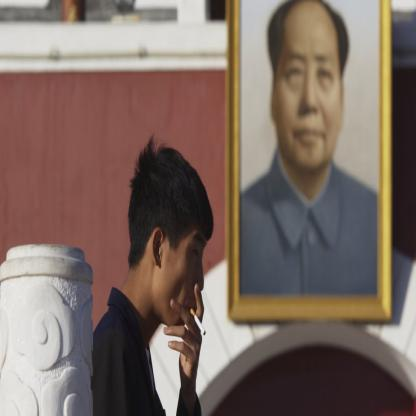cigarette: (190, 307, 206, 338)
person: (91, 136, 220, 416)
